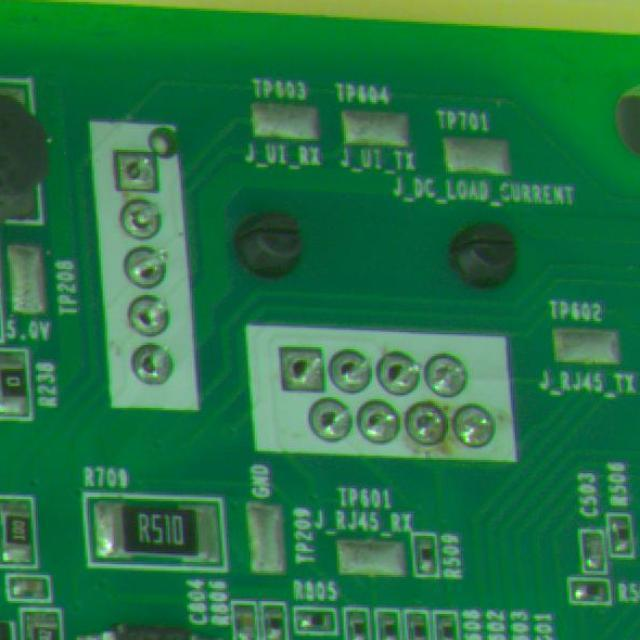Insufficient solder: (99, 142, 168, 194), (271, 343, 328, 396), (290, 401, 352, 446), (112, 246, 172, 290), (110, 200, 170, 244), (377, 346, 422, 404), (327, 344, 372, 396), (128, 346, 177, 392), (120, 298, 170, 338), (356, 402, 399, 445), (408, 401, 444, 448)
